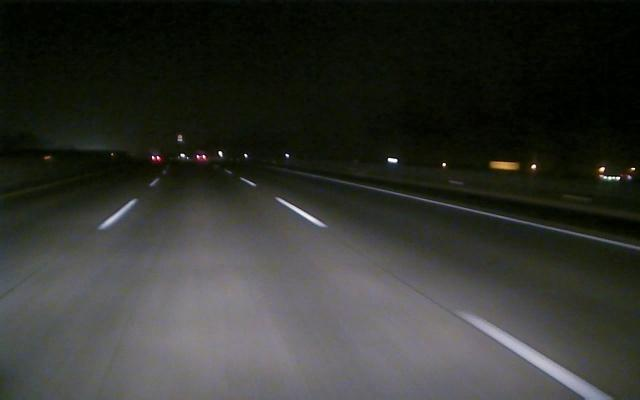lane: (242, 179, 618, 400), (366, 186, 640, 252), (94, 194, 139, 233)
